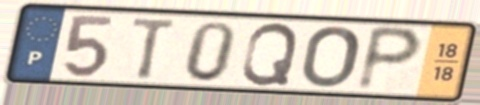0: (182, 20, 238, 83)
5: (58, 14, 120, 80)
O: (298, 24, 363, 90)
P: (353, 23, 427, 94)
Q: (238, 20, 302, 88)
T: (129, 16, 180, 82)
